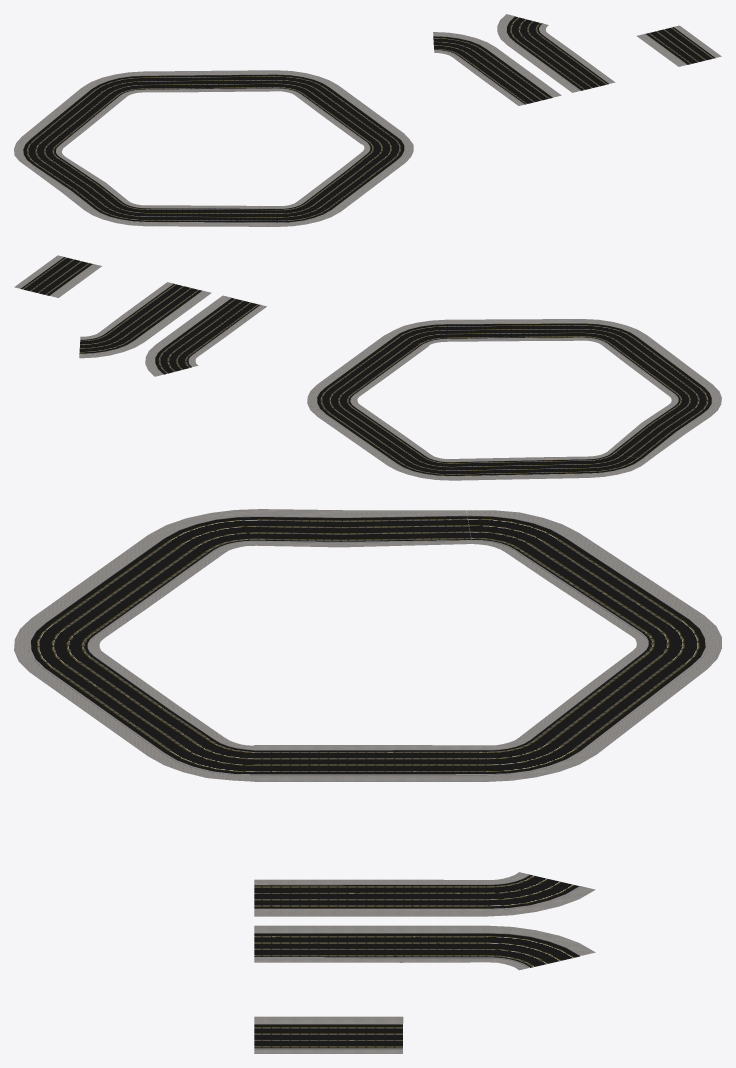
The model's file is calles.FBX.
3 views of the same model, one above another, from view 1: azimuth 30°, elevation 25°; view 2: azimuth 150°, elevation 25°; view 3: azimuth 270°, elevation 25° (orthographic). The views are drawn at different scales.
Parts seen in each view (by area): view 1: Plane015, Plane017, Plane012, Plane019, Plane020, Plane014, Plane016, Plane018, Calle; view 2: Plane016, Plane017, Plane019, Plane014, Plane012, Plane020, Plane015, Plane018, Calle; view 3: Plane020, Plane019, Plane017, Plane014, Plane015, Plane012, Plane016, Plane018, Calle.
Boxes of the visible parts, left/top/right/bottom form: Plane015: left=83, top=70, right=276, bottom=96; Plane017: left=145, top=201, right=339, bottom=226; Plane012: left=276, top=70, right=404, bottom=144; Plane019: left=433, top=32, right=561, bottom=105; Plane020: left=497, top=14, right=615, bottom=92; Plane014: left=14, top=87, right=125, bottom=166; Plane016: left=297, top=134, right=413, bottom=211; Plane018: left=27, top=156, right=145, bottom=226; Calle: left=637, top=25, right=721, bottom=66; Plane016: left=385, top=319, right=583, bottom=345; Plane017: left=582, top=319, right=712, bottom=395; Plane019: left=145, top=295, right=266, bottom=376; Plane014: left=450, top=452, right=648, bottom=480; Plane012: left=307, top=335, right=428, bottom=415; Plane020: left=79, top=282, right=211, bottom=358; Plane015: left=317, top=405, right=452, bottom=480; Plane018: left=607, top=385, right=721, bottom=460; Calle: left=14, top=255, right=101, bottom=297; Plane020: left=254, top=925, right=595, bottom=970; Plane019: left=254, top=872, right=595, bottom=916; Plane017: left=14, top=534, right=223, bottom=672; Plane014: left=466, top=510, right=704, bottom=635; Plane015: left=519, top=615, right=721, bottom=754; Plane012: left=254, top=737, right=595, bottom=781; Plane016: left=30, top=653, right=254, bottom=781; Plane018: left=149, top=509, right=472, bottom=553; Calle: left=254, top=1016, right=403, bottom=1053.
Bounding box in the file's own units: 27773 × 11.21 × 15255.
Materials: 2 (2 with a texture image).
